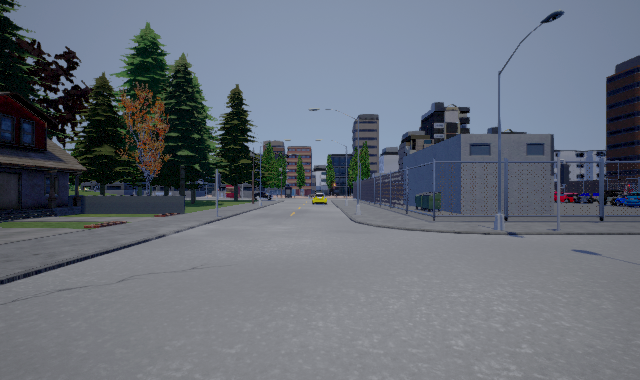traffic_light: (333, 184, 335, 189)
vehicle: (604, 190, 640, 207), (560, 192, 599, 204), (310, 192, 328, 204)
